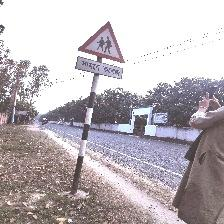College-in-front: (71, 12, 141, 95)
